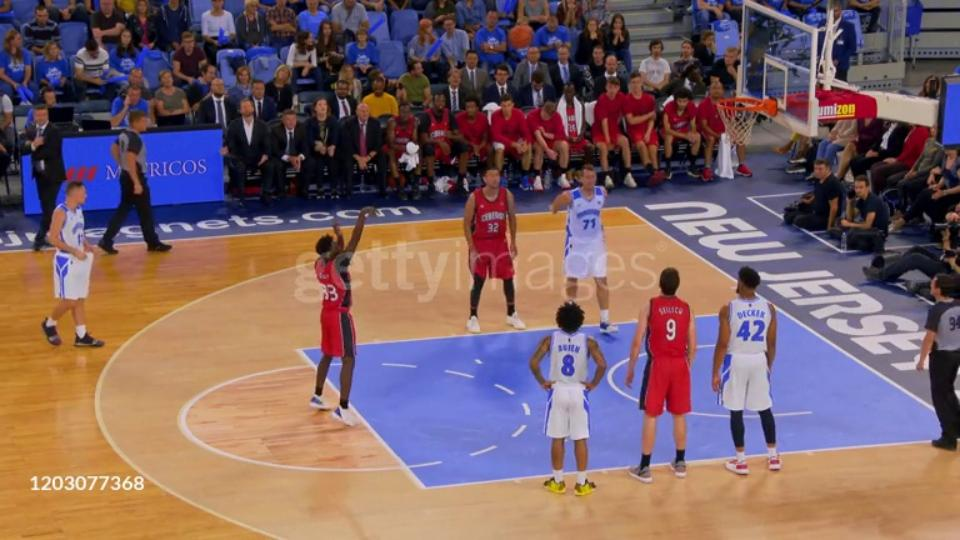hoop: (714, 94, 772, 118)
